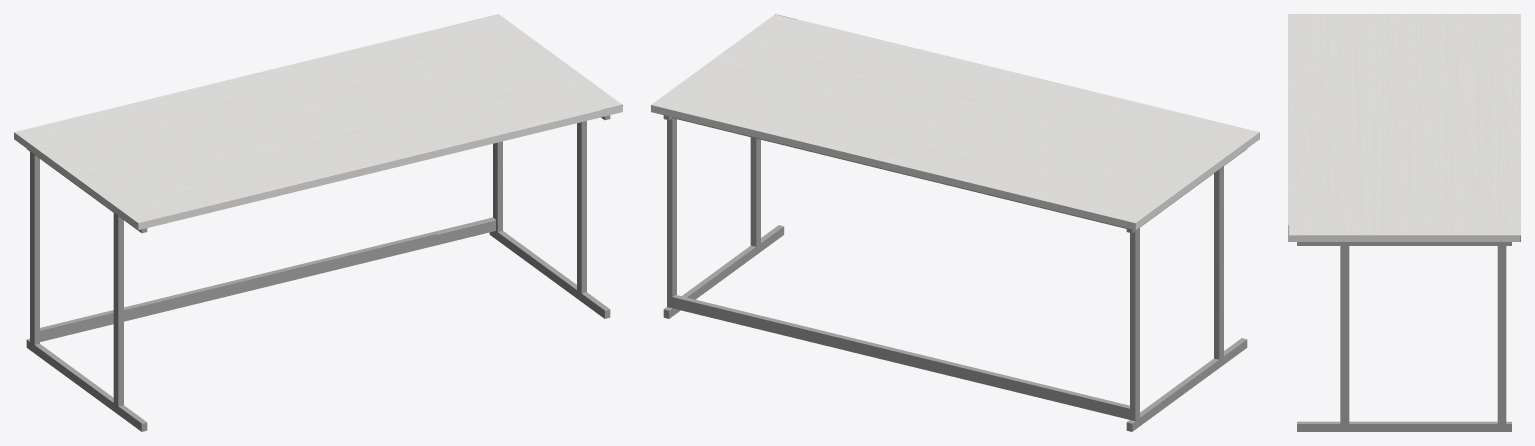
3 views of the same model, side by side, from view 1: azimuth 30°, elevation 25°; view 2: azimuth 150°, elevation 25°; view 3: azimuth 270°, elevation 25° (orthographic). The views are drawn at different scales.
Parts seen in each view (by area): view 1: Stul_180 v2; view 2: Stul_180 v2; view 3: Stul_180 v2.
Boxes of the visible parts, bbox=[...] form: Stul_180 v2: bbox=[14, 14, 622, 431]; Stul_180 v2: bbox=[651, 14, 1259, 431]; Stul_180 v2: bbox=[1288, 14, 1520, 431].
Size of the model in its own units: 1.8 by 0.8 by 0.76.
